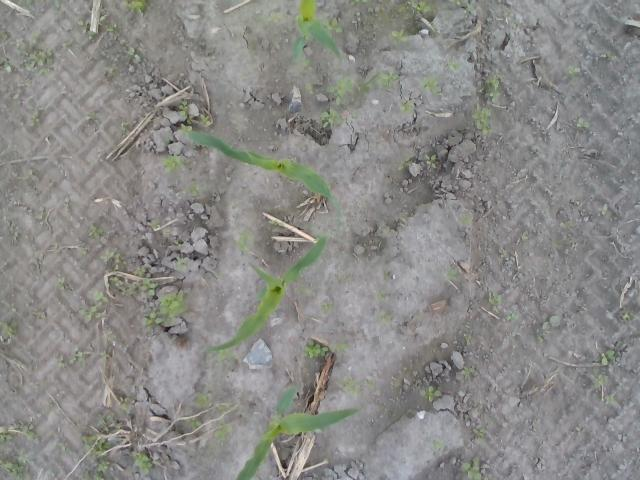Maize: (202, 232, 325, 354), (183, 128, 343, 215), (234, 386, 358, 480), (292, 0, 344, 60)
Weeds: (96, 246, 156, 298), (142, 290, 194, 336), (15, 30, 56, 76), (322, 77, 369, 106), (0, 449, 32, 480), (78, 290, 108, 322), (336, 374, 375, 398), (78, 433, 112, 458), (0, 422, 34, 444), (319, 108, 356, 128), (208, 421, 234, 449), (472, 105, 494, 136), (370, 68, 400, 90), (160, 154, 190, 174), (94, 410, 121, 432), (120, 0, 154, 17), (80, 461, 110, 480), (76, 15, 97, 42), (56, 351, 89, 368), (418, 74, 443, 96), (234, 229, 256, 254), (132, 450, 153, 476), (398, 0, 432, 16), (303, 338, 328, 359), (484, 73, 502, 102), (461, 456, 482, 480), (418, 384, 442, 402), (319, 17, 344, 33), (184, 181, 208, 197), (100, 14, 118, 33), (0, 318, 17, 338), (127, 46, 145, 64), (0, 53, 16, 73), (390, 28, 410, 44), (193, 390, 209, 410), (255, 13, 281, 25), (86, 222, 105, 238), (182, 415, 202, 430), (543, 313, 560, 330), (334, 216, 351, 232), (600, 349, 616, 366), (294, 284, 313, 298), (488, 287, 502, 306), (471, 423, 486, 440), (447, 55, 462, 72), (375, 312, 393, 326), (181, 116, 193, 136), (142, 218, 162, 230), (175, 255, 188, 273), (424, 153, 438, 169), (78, 240, 90, 258), (302, 59, 316, 74), (457, 212, 472, 226), (592, 373, 608, 386), (462, 366, 476, 380), (218, 348, 234, 360), (576, 117, 592, 129), (178, 100, 190, 116), (304, 82, 317, 96), (400, 99, 414, 112), (334, 342, 349, 354), (504, 310, 520, 321), (119, 398, 129, 414), (30, 112, 40, 128), (568, 63, 580, 76), (16, 0, 33, 9), (374, 288, 384, 303), (447, 0, 468, 7), (351, 0, 369, 8), (321, 302, 334, 313), (447, 270, 459, 281), (199, 114, 211, 125), (464, 3, 472, 18), (98, 350, 108, 362), (119, 121, 128, 134), (431, 438, 442, 448), (575, 424, 585, 434), (598, 206, 608, 216), (87, 111, 97, 121), (622, 312, 634, 320), (463, 334, 471, 345), (522, 230, 530, 241), (216, 403, 228, 410), (56, 278, 64, 288), (608, 393, 616, 402), (398, 160, 406, 168), (175, 239, 182, 248), (537, 335, 544, 343), (271, 220, 279, 227), (54, 442, 63, 448), (592, 396, 602, 401)
